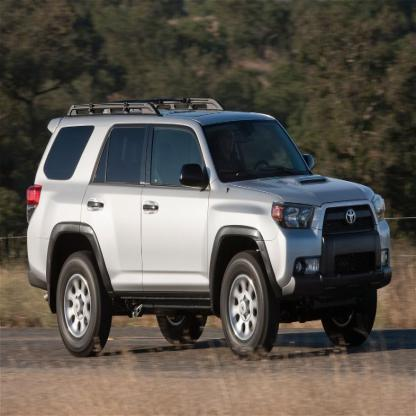Vehicle: (25, 96, 396, 360)
